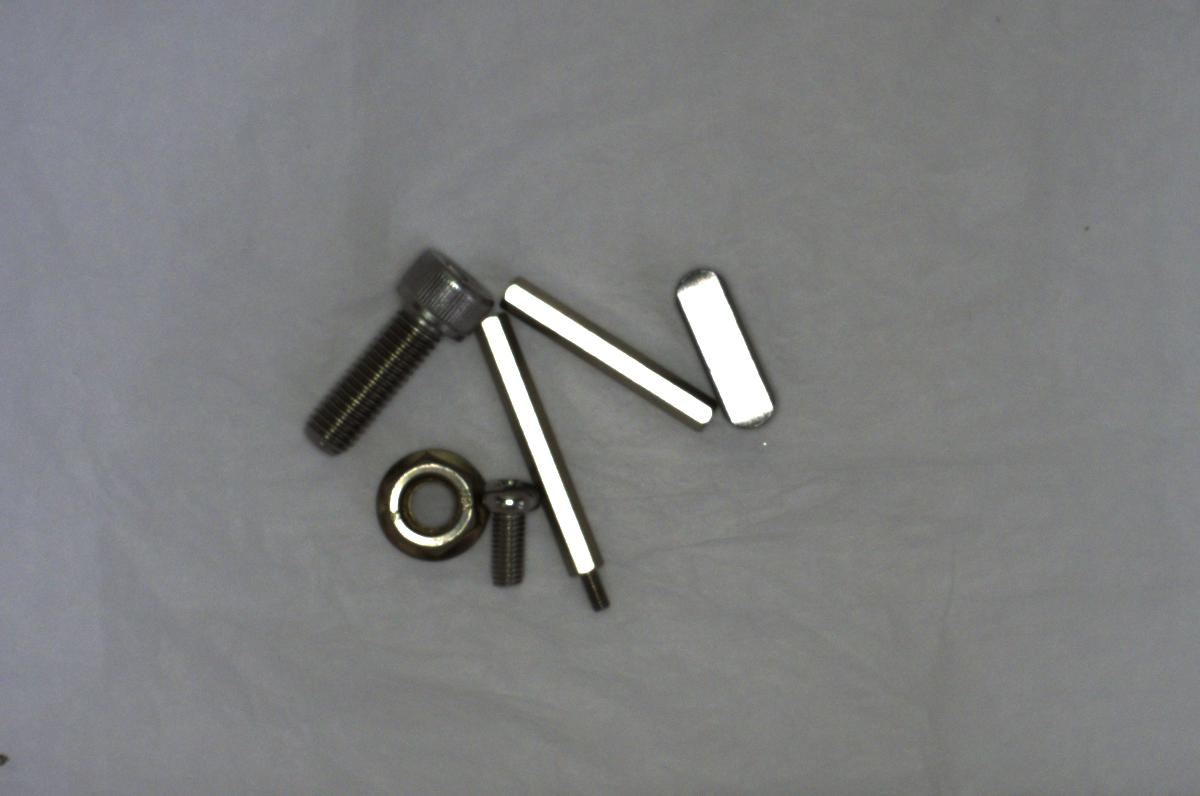Double hexagonal column: (498, 276, 714, 435)
Flange nut: (358, 441, 487, 563)
Hexagon screw: (306, 242, 487, 451)
Hexagonal steel column: (473, 309, 614, 614)
Keybar: (671, 262, 788, 439)
Round head screw: (469, 472, 543, 590)
